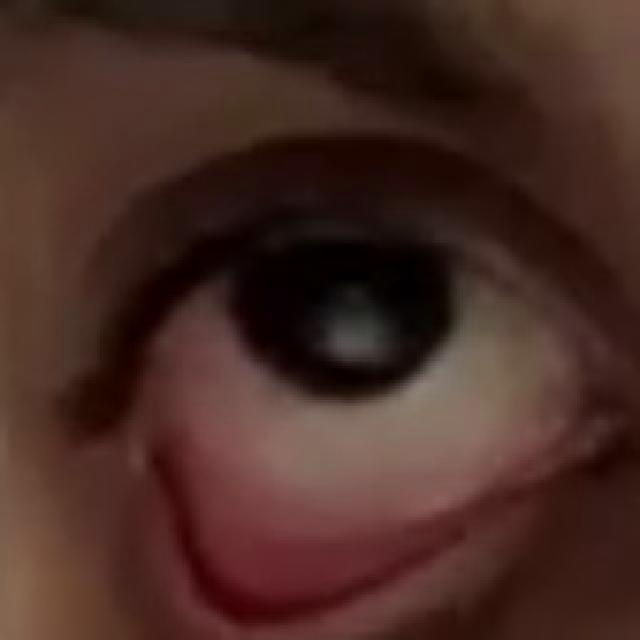conjunctiva_pallor: (146, 430, 542, 633)
